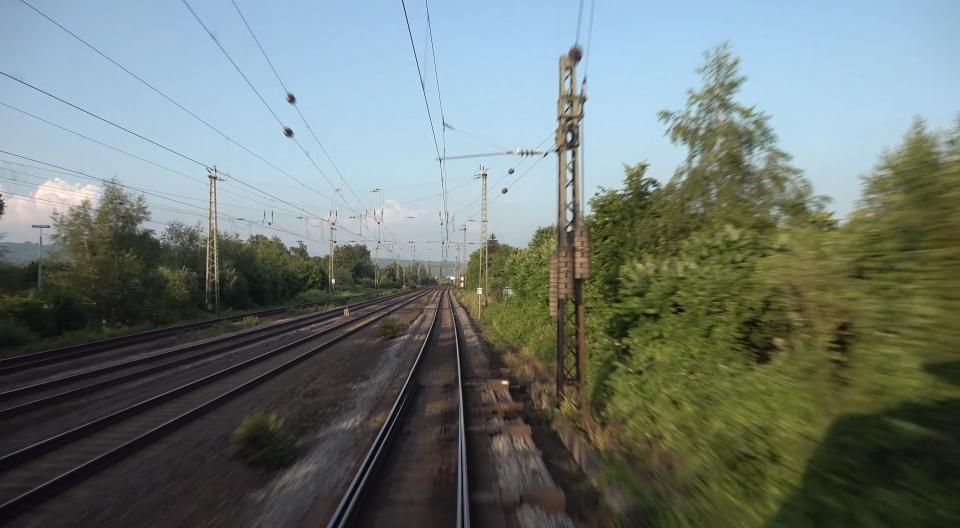Plant: (232, 412, 296, 470), (285, 288, 410, 317), (176, 321, 232, 343), (377, 317, 406, 343), (239, 316, 260, 328)
